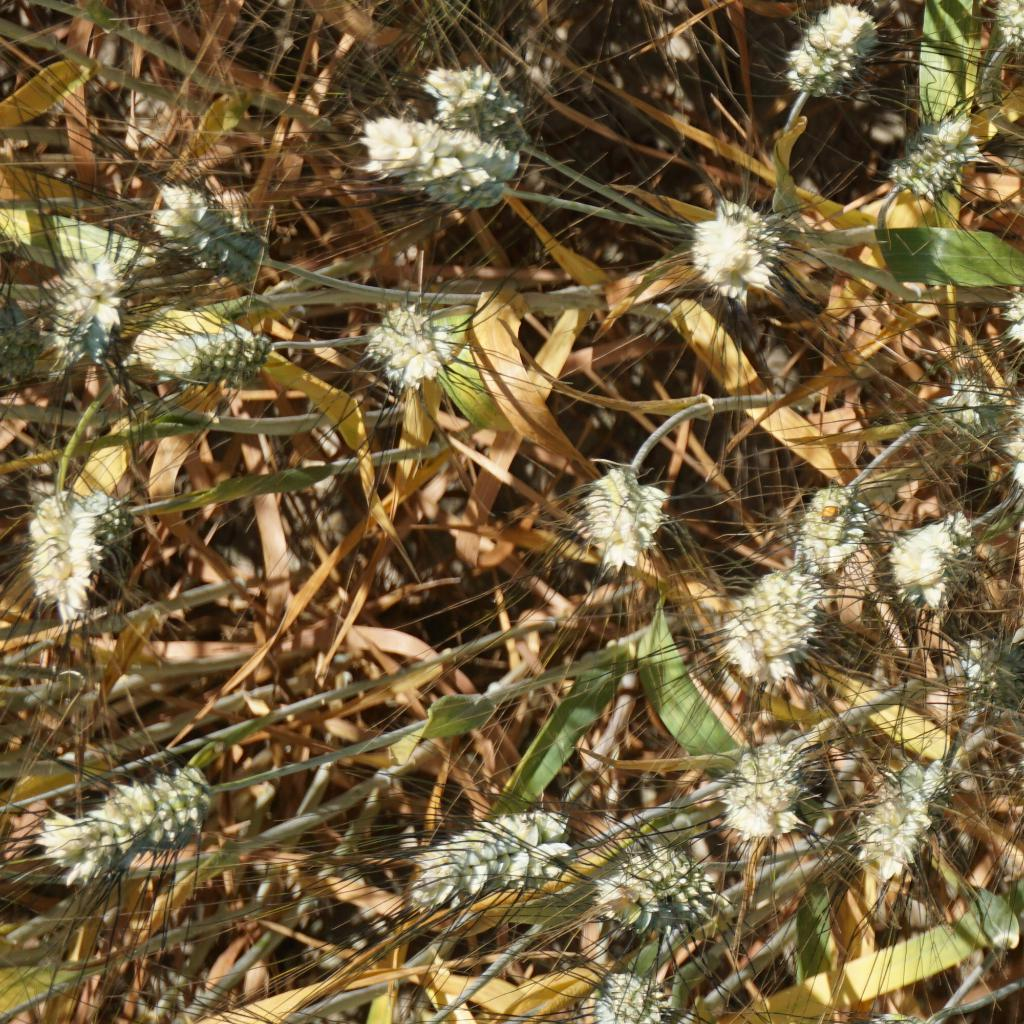0-0: (16, 768, 222, 899), (385, 806, 601, 919), (358, 109, 538, 214), (706, 557, 847, 689), (26, 474, 130, 623), (141, 182, 284, 290), (113, 297, 269, 391), (574, 448, 678, 572), (664, 201, 783, 305), (393, 41, 538, 126), (854, 749, 945, 883), (711, 745, 813, 858), (363, 299, 478, 395), (588, 836, 713, 918), (773, 0, 877, 96), (35, 253, 131, 350), (888, 102, 976, 189), (888, 518, 969, 604), (0, 285, 54, 395), (797, 475, 863, 565), (956, 629, 1024, 700), (931, 370, 999, 438), (594, 964, 663, 1024), (992, 252, 1024, 356), (971, 0, 1024, 60)
